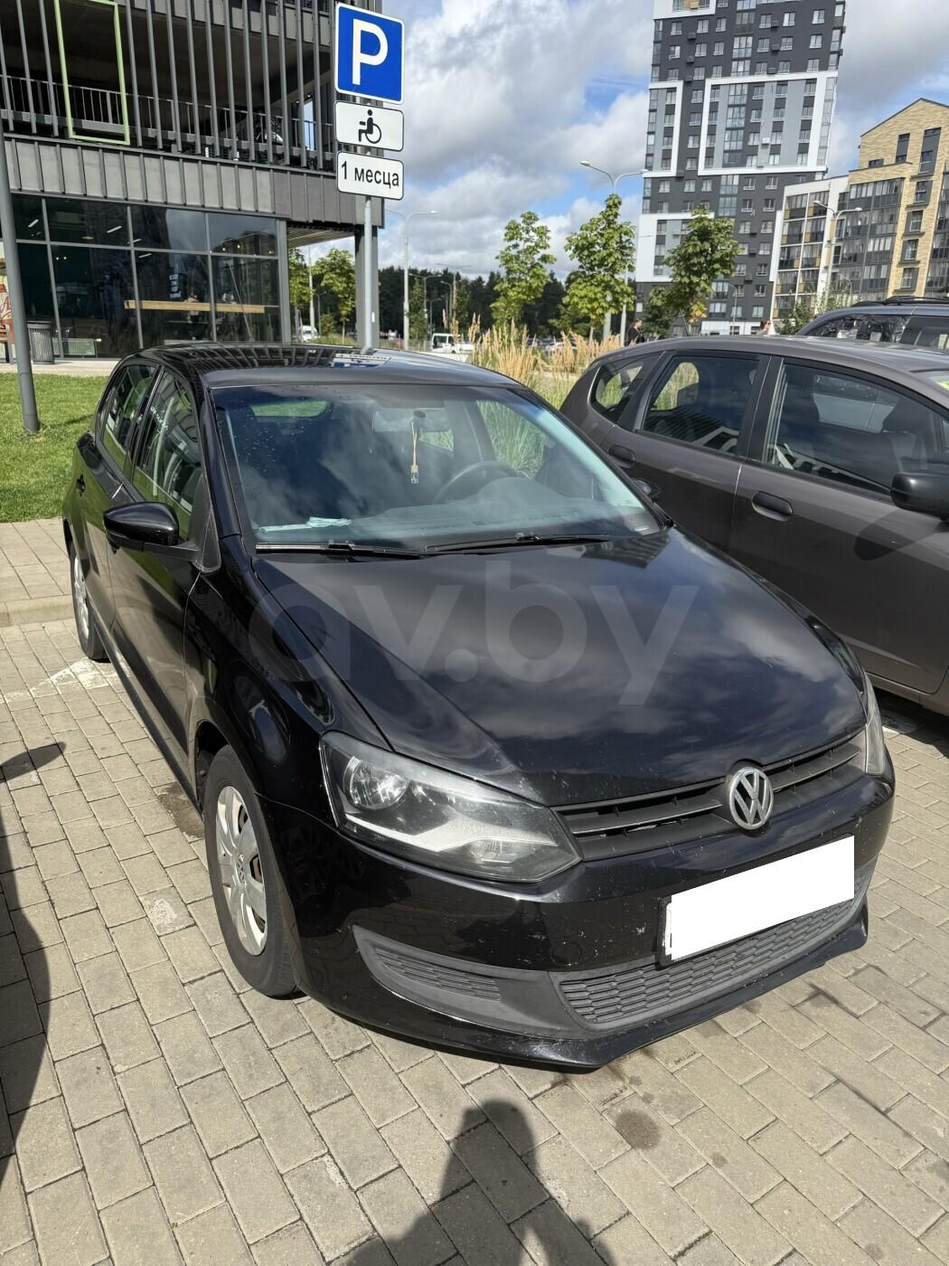Polo_2009-2015: (65, 354, 895, 1071)
